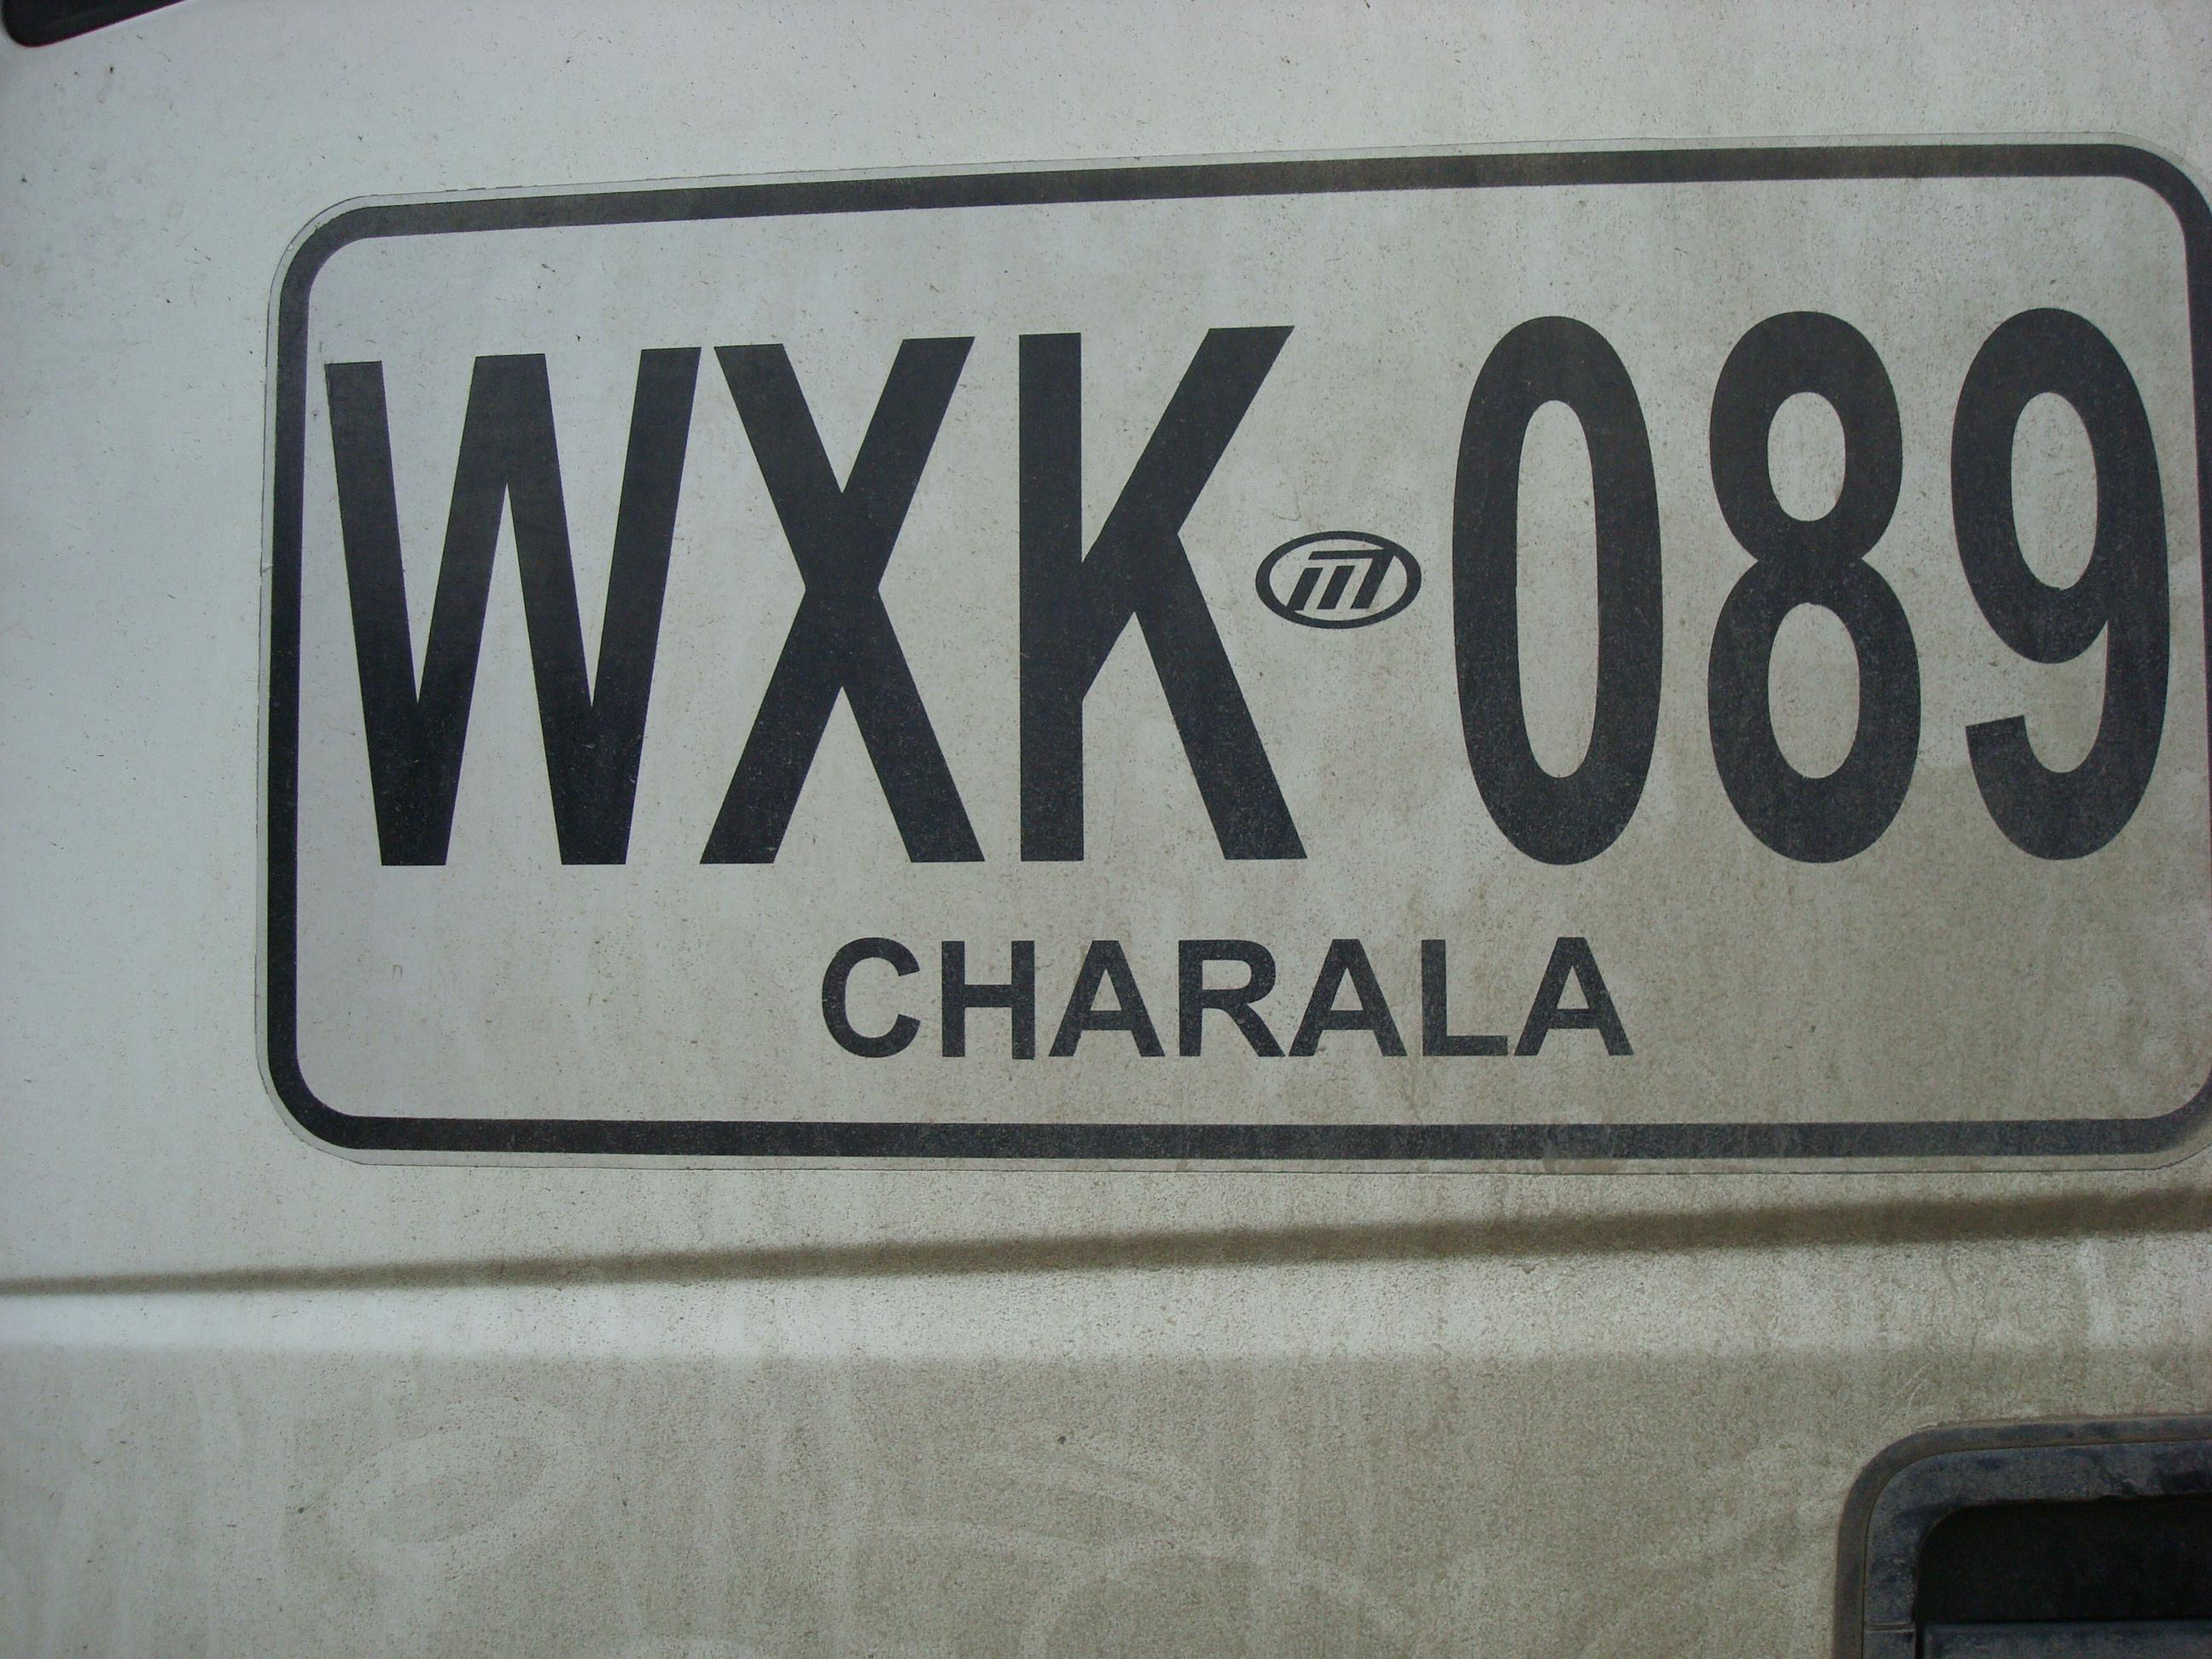placas: (228, 120, 2212, 1187)
